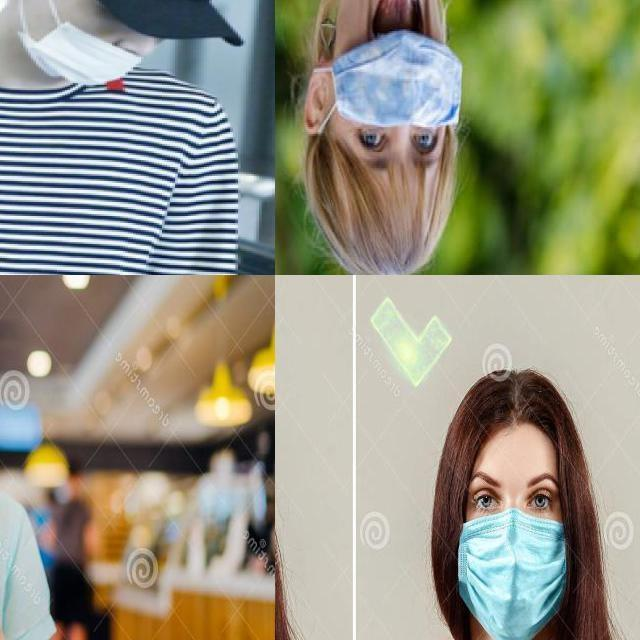hairnet: (280, 0, 494, 165), (3, 0, 176, 105)
mask: (434, 506, 586, 640)
no_gloves: (302, 140, 477, 274), (433, 361, 592, 488)
